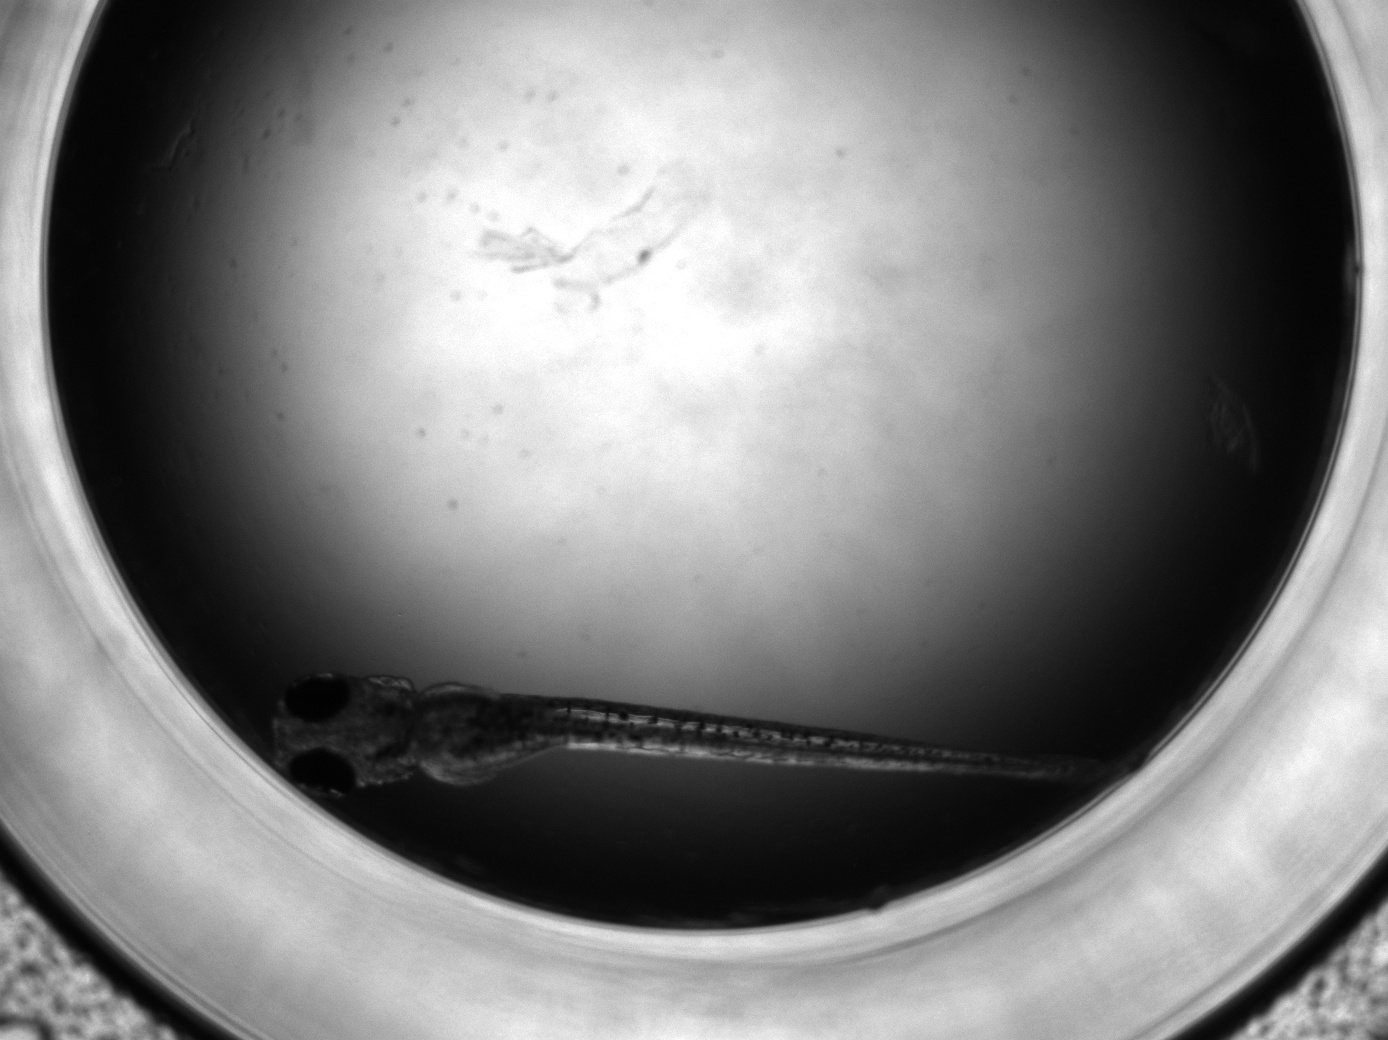embryo: (269, 672, 1112, 797)
eye: (287, 748, 359, 797), (282, 672, 352, 722)
yolksac: (415, 679, 568, 785)
